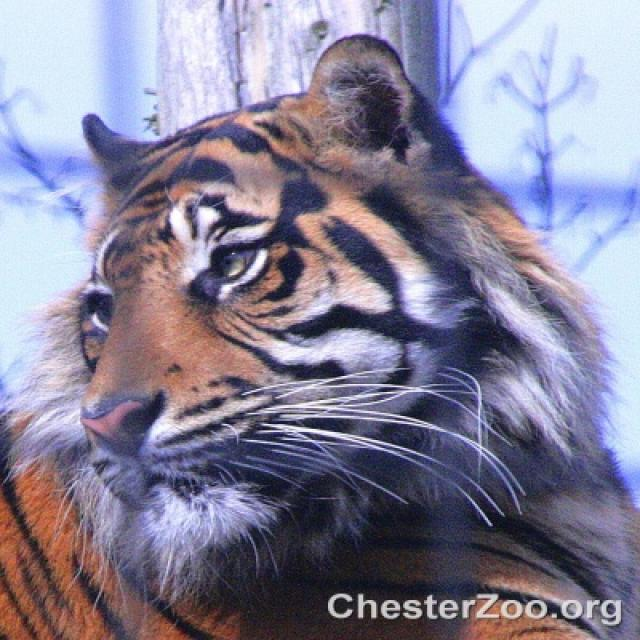Tiger: (0, 33, 638, 638)
